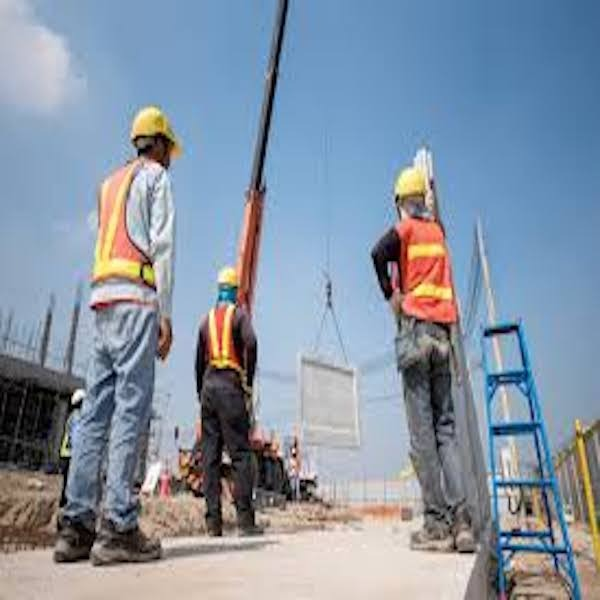helmet: (131, 105, 182, 141), (396, 161, 429, 198), (216, 261, 244, 288)
vest: (90, 162, 173, 307), (391, 218, 463, 321), (205, 298, 246, 376)
